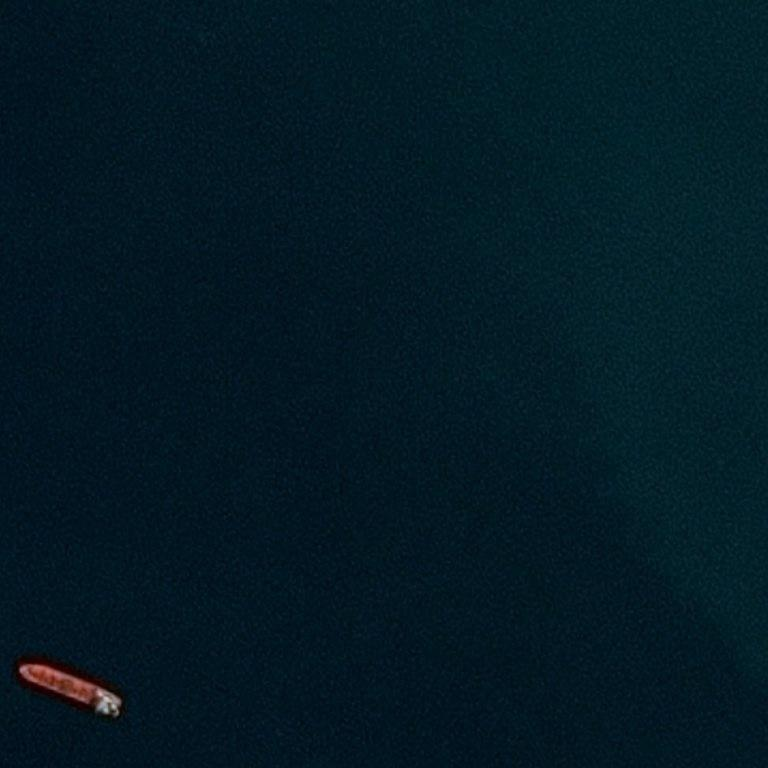ship: (46, 653, 93, 727), (16, 665, 24, 673), (118, 697, 123, 704), (112, 714, 117, 720)
